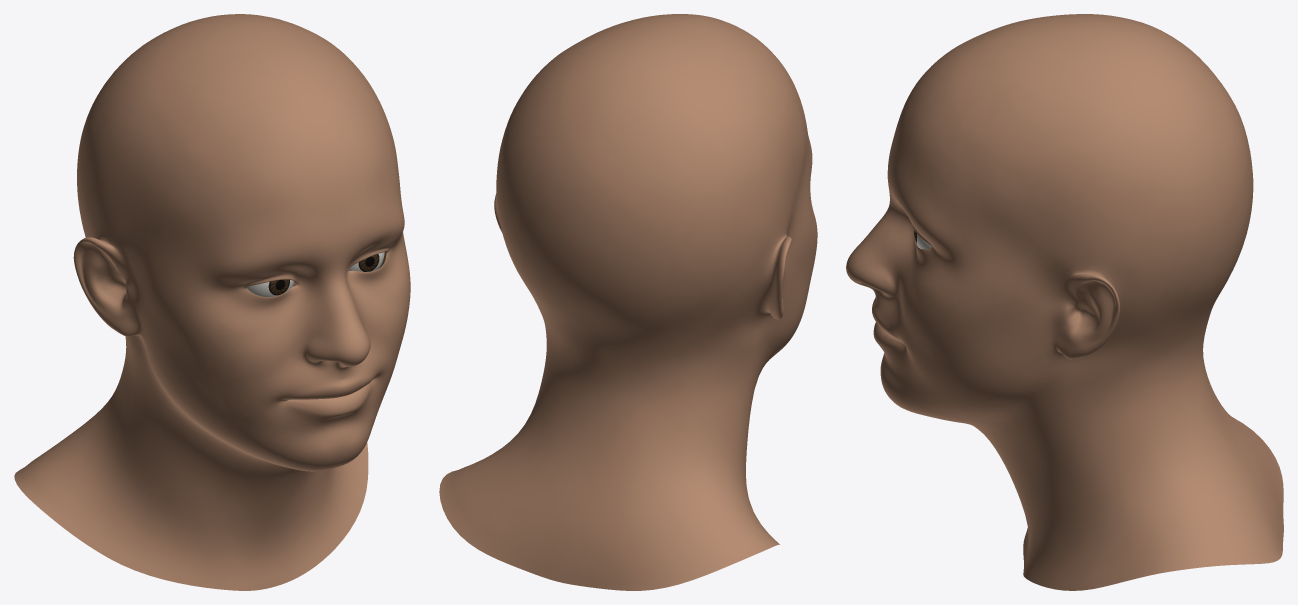
File: head-anatomy-study.glb
The picture shows the model from 3 angles, left to right: view 1: azimuth 30°, elevation 25°; view 2: azimuth 150°, elevation 25°; view 3: azimuth 270°, elevation 25°; orthographic projection. The views are drawn at different scales.
Parts seen in each view (by area): view 1: Ubaid_FaceBuilder_Head_Study, Eye.R; view 2: Ubaid_FaceBuilder_Head_Study; view 3: Ubaid_FaceBuilder_Head_Study.
Part boxes in pixels (x1,y1,x2,y2): Ubaid_FaceBuilder_Head_Study: (14,14,410,590); Eye.R: (246,279,293,296); Ubaid_FaceBuilder_Head_Study: (439,14,817,590); Ubaid_FaceBuilder_Head_Study: (846,14,1283,590).
Bounding box in the file's own units: 0.1915 × 0.2968 × 0.2195.
